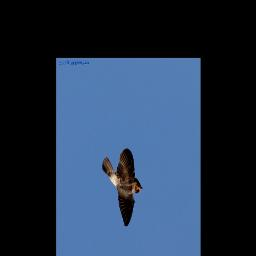Swallow: (101, 147, 144, 228)
